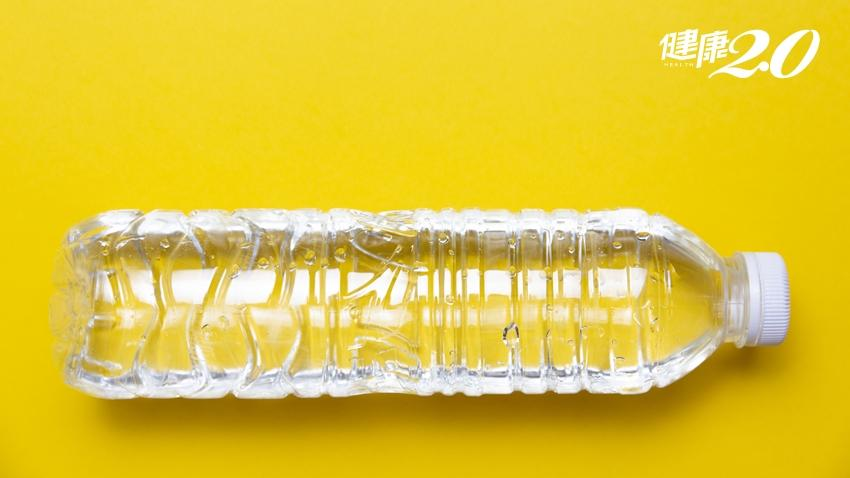plastic_bottle: (52, 190, 799, 425)
